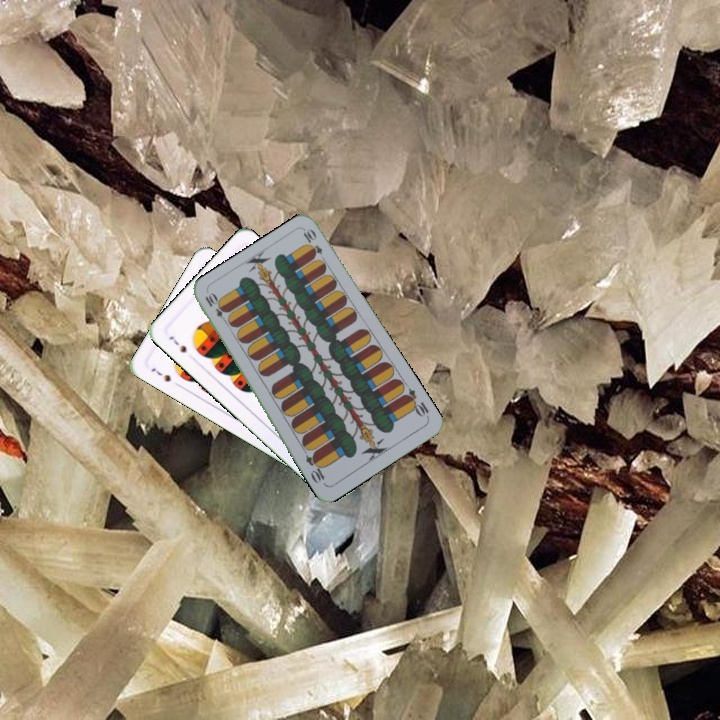E10: (399, 385, 432, 421), (201, 289, 231, 326)
S7: (165, 332, 189, 355), (147, 364, 173, 385)
